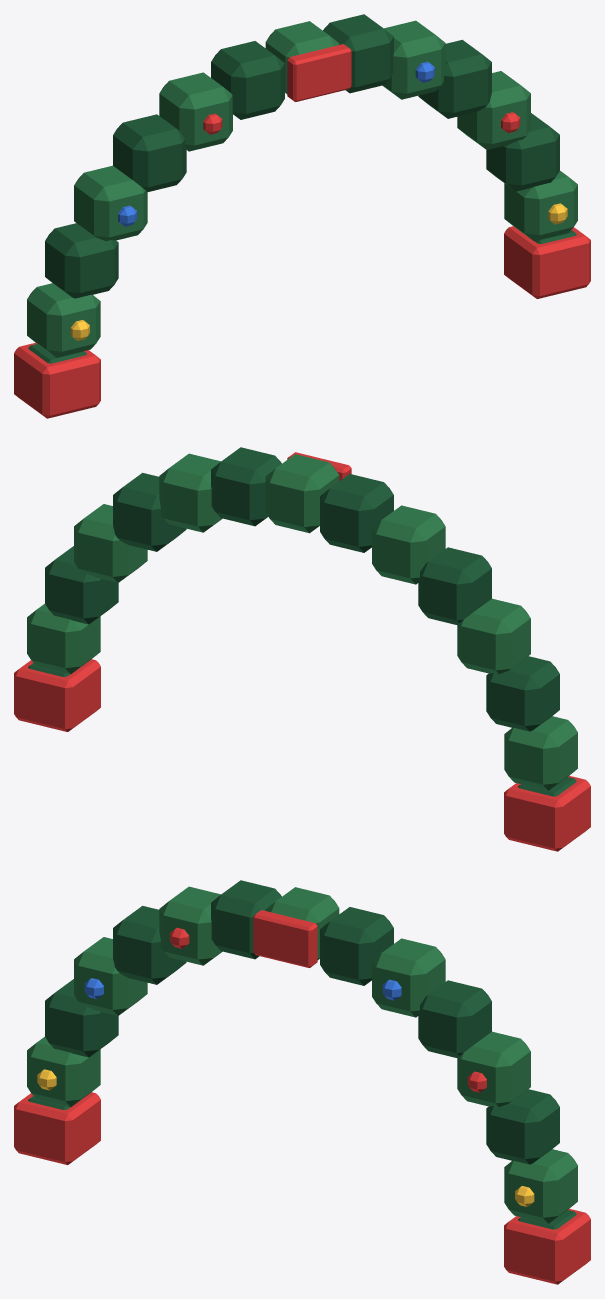
Rendered from ChristmasArch.fbx.
The picture shows the model from 3 angles, top to bottom: view 1: azimuth 30°, elevation 25°; view 2: azimuth 150°, elevation 25°; view 3: azimuth 330°, elevation 25°; orthographic projection.
Visible parts, largest first — view 1: ChristmasArch; view 2: ChristmasArch; view 3: ChristmasArch.
Boxes of the visible parts, box(x1,y1,x2,y2) form: ChristmasArch: box(14, 14, 590, 418); ChristmasArch: box(14, 447, 590, 851); ChristmasArch: box(14, 880, 590, 1284).
Size of the model in its own units: 11.2 by 6.1 by 1.35.
1 material, 1 textured.
